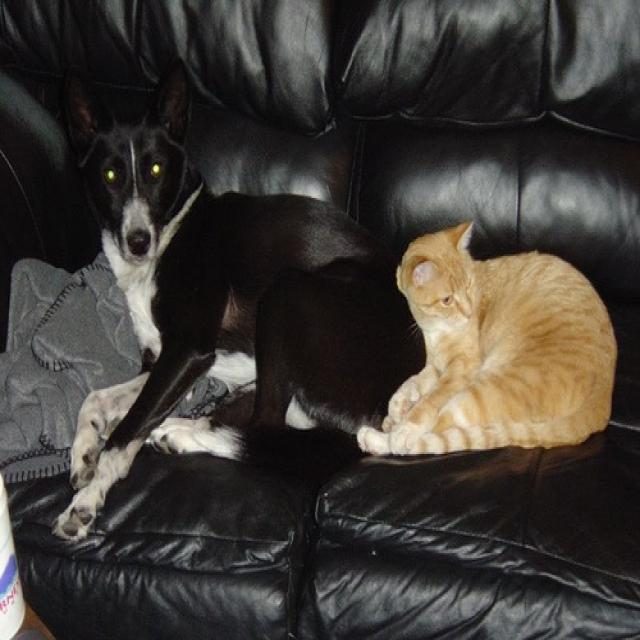cat: (358, 222, 618, 457)
dog: (52, 53, 426, 541)
sofa: (0, 0, 639, 637)
